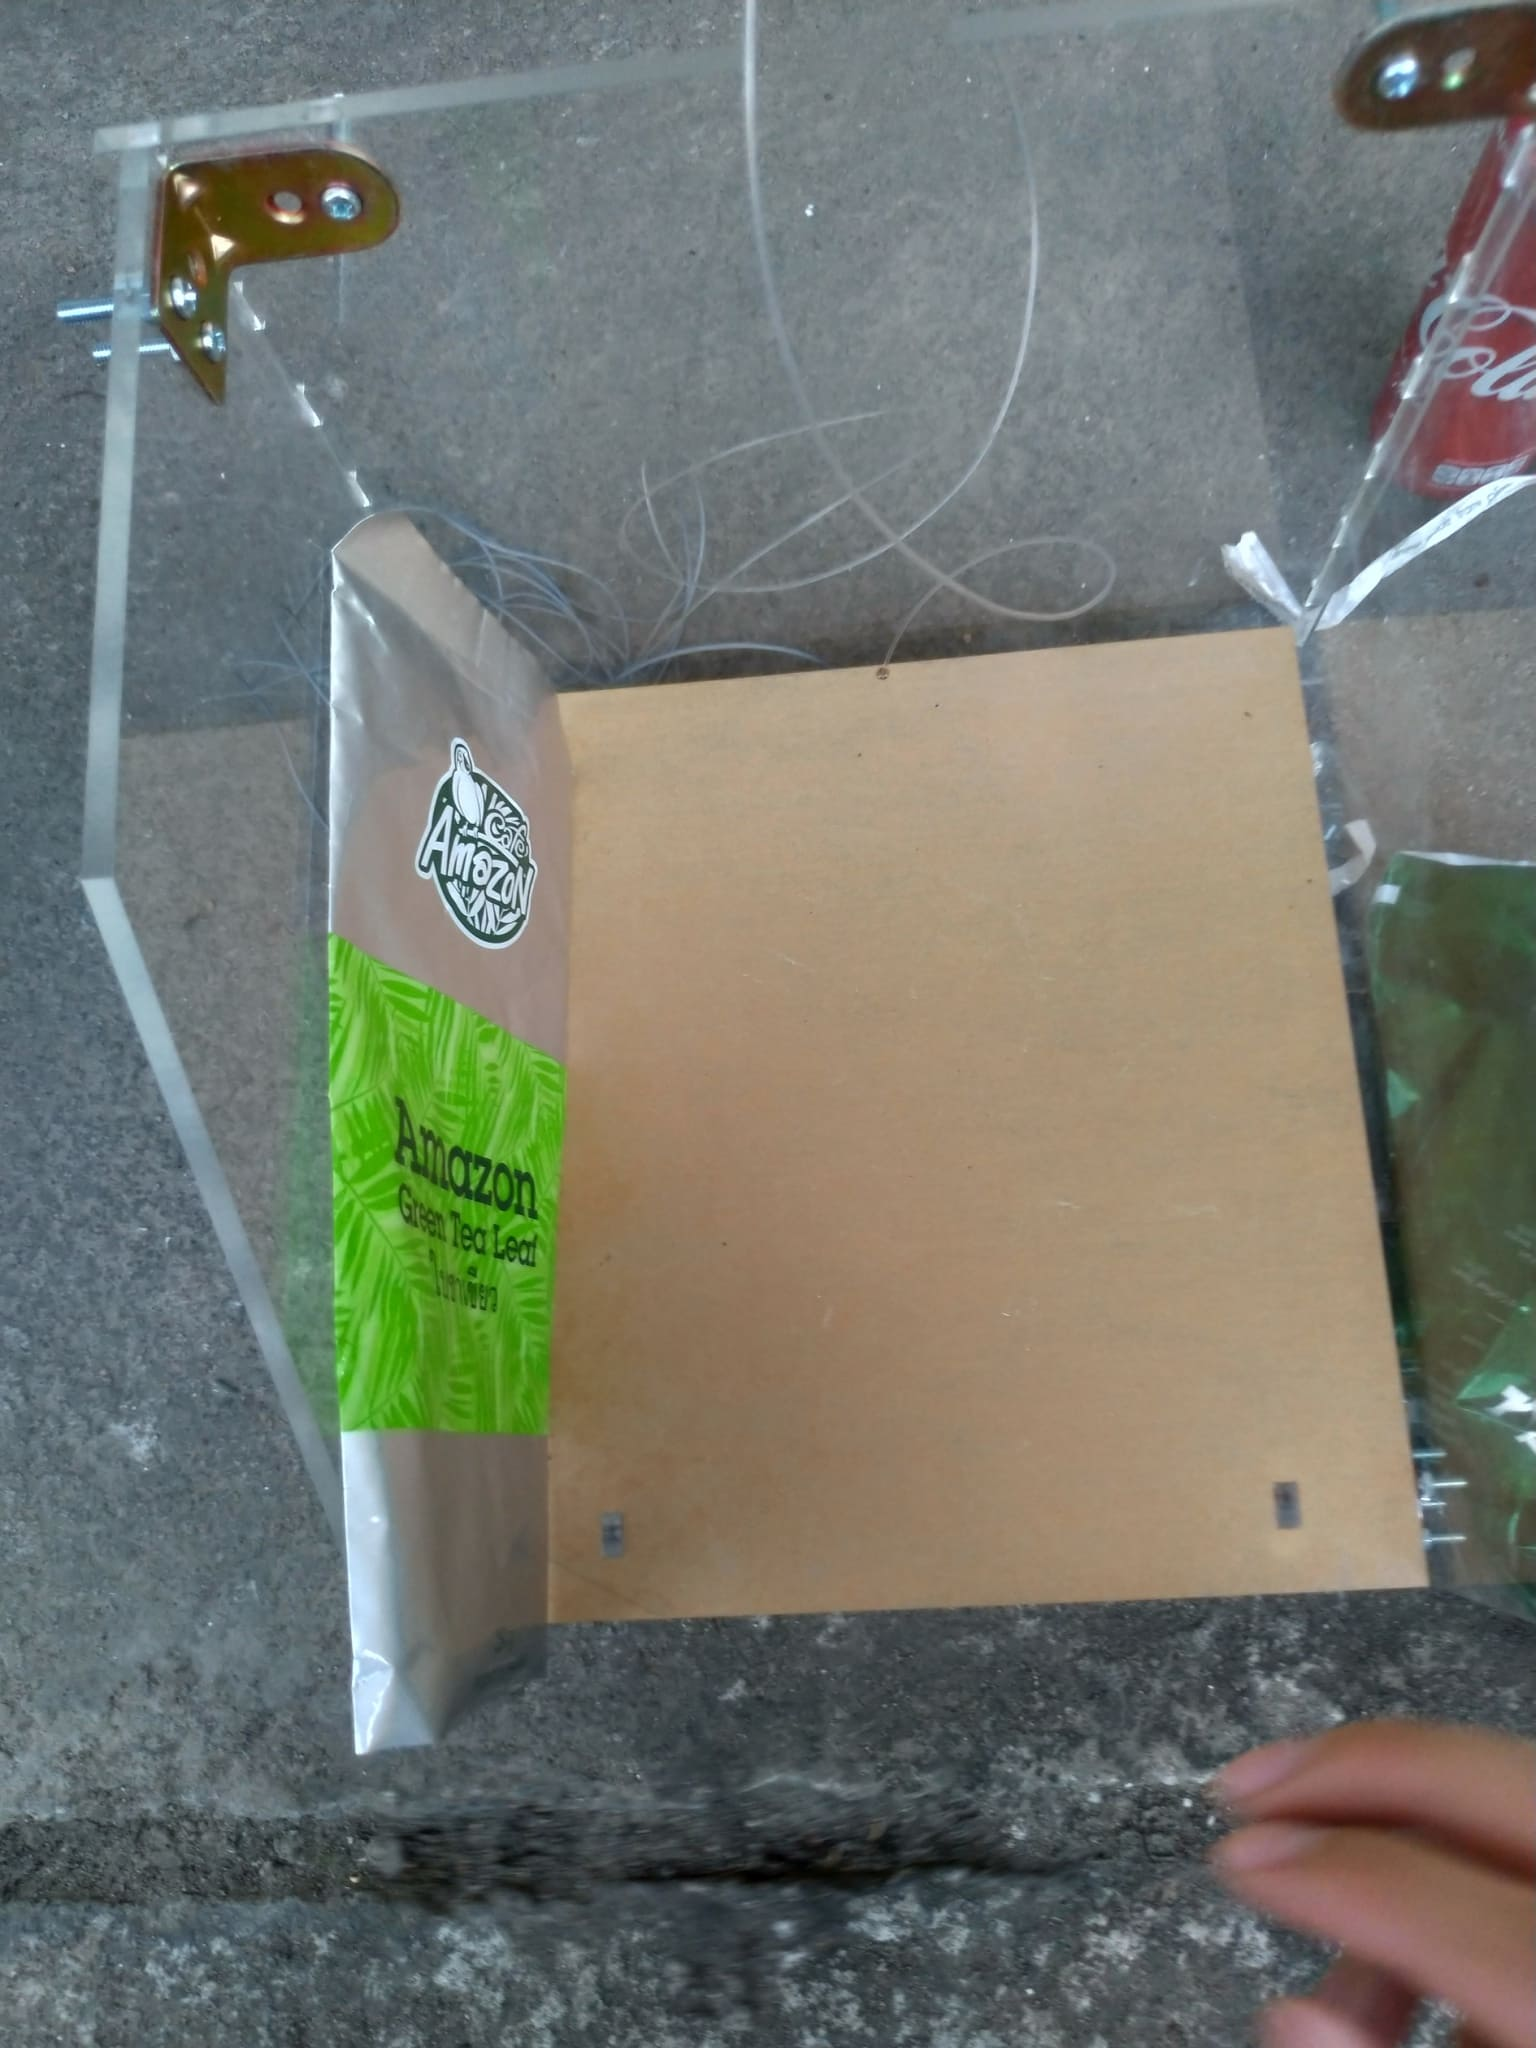AlCan: (1368, 118, 1536, 461)
Others: (332, 505, 573, 1748), (1375, 851, 1533, 1521)
